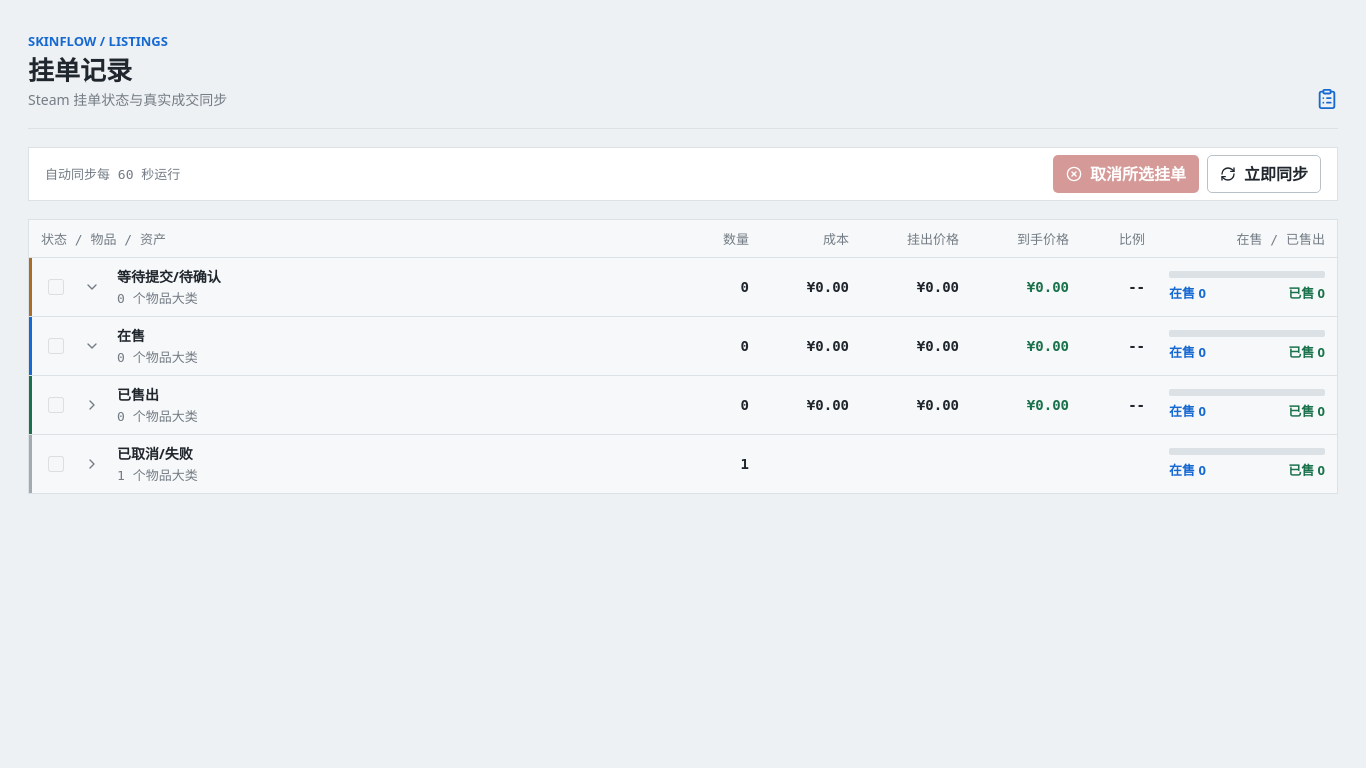
ListingsPage › hides financial values throughout the cancelled and failed section
Expected: the text "已取消/失败" is shown, [117,443,198,463]
Click the button named "展开 已取消/失败": (92, 464) [75,446,109,480]
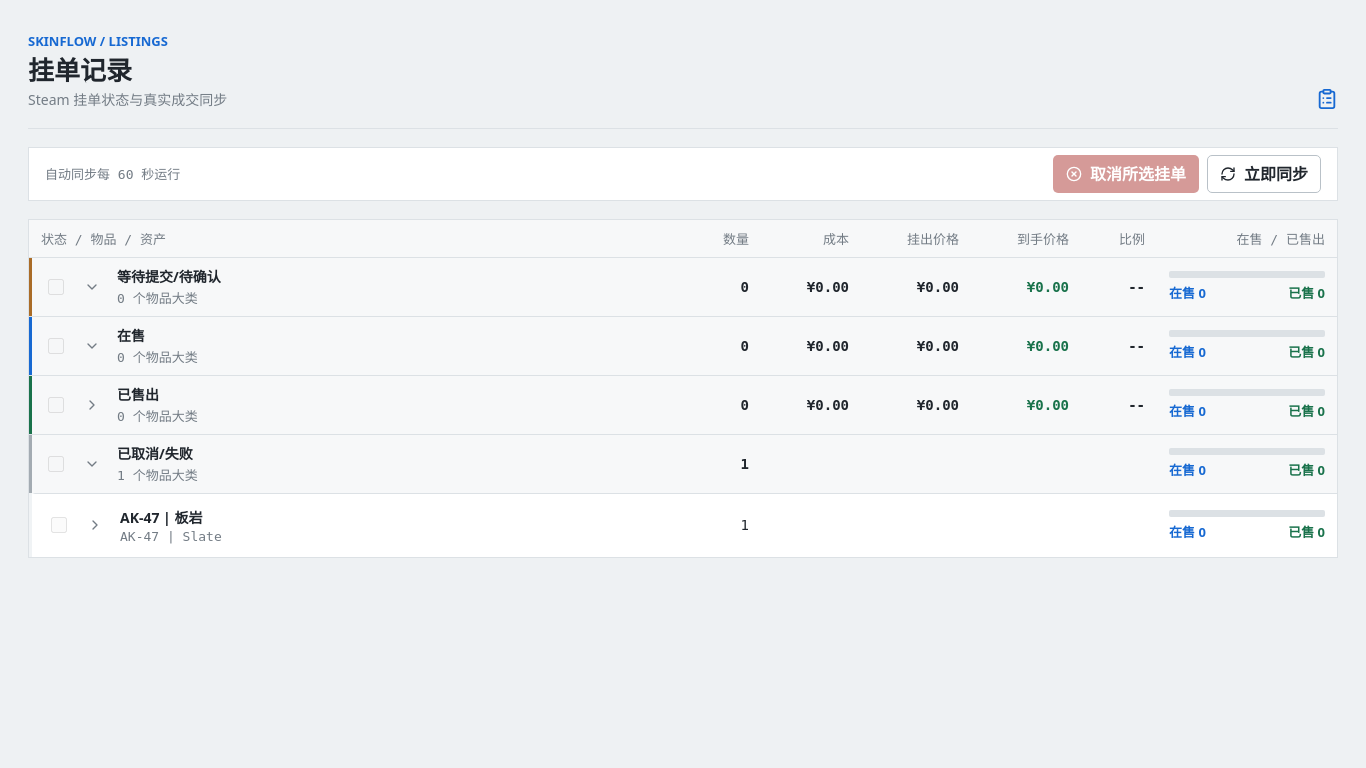
Click the button named "展开 AK-47 | 板岩": (95, 525) [78,508,112,542]
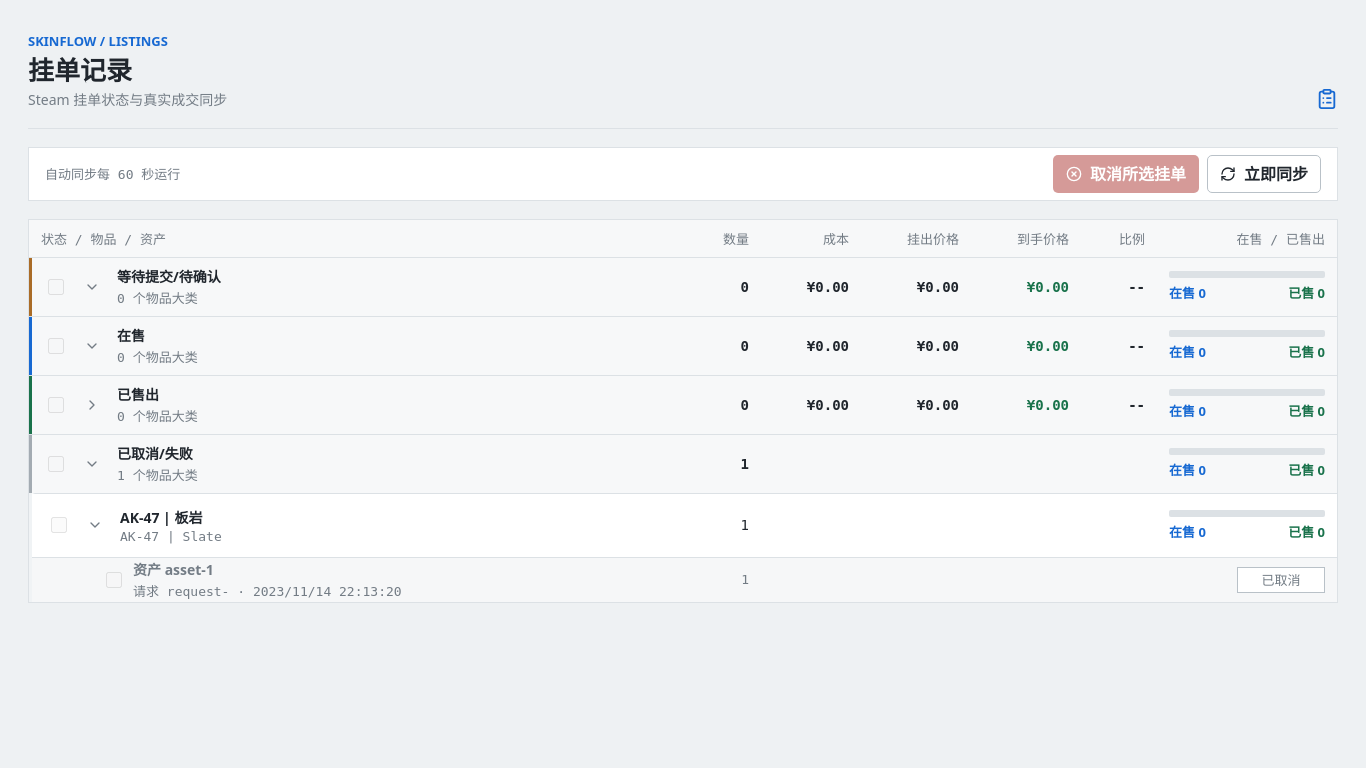
Now the text "资产 asset-1" is shown, box [133,560,214,579]
